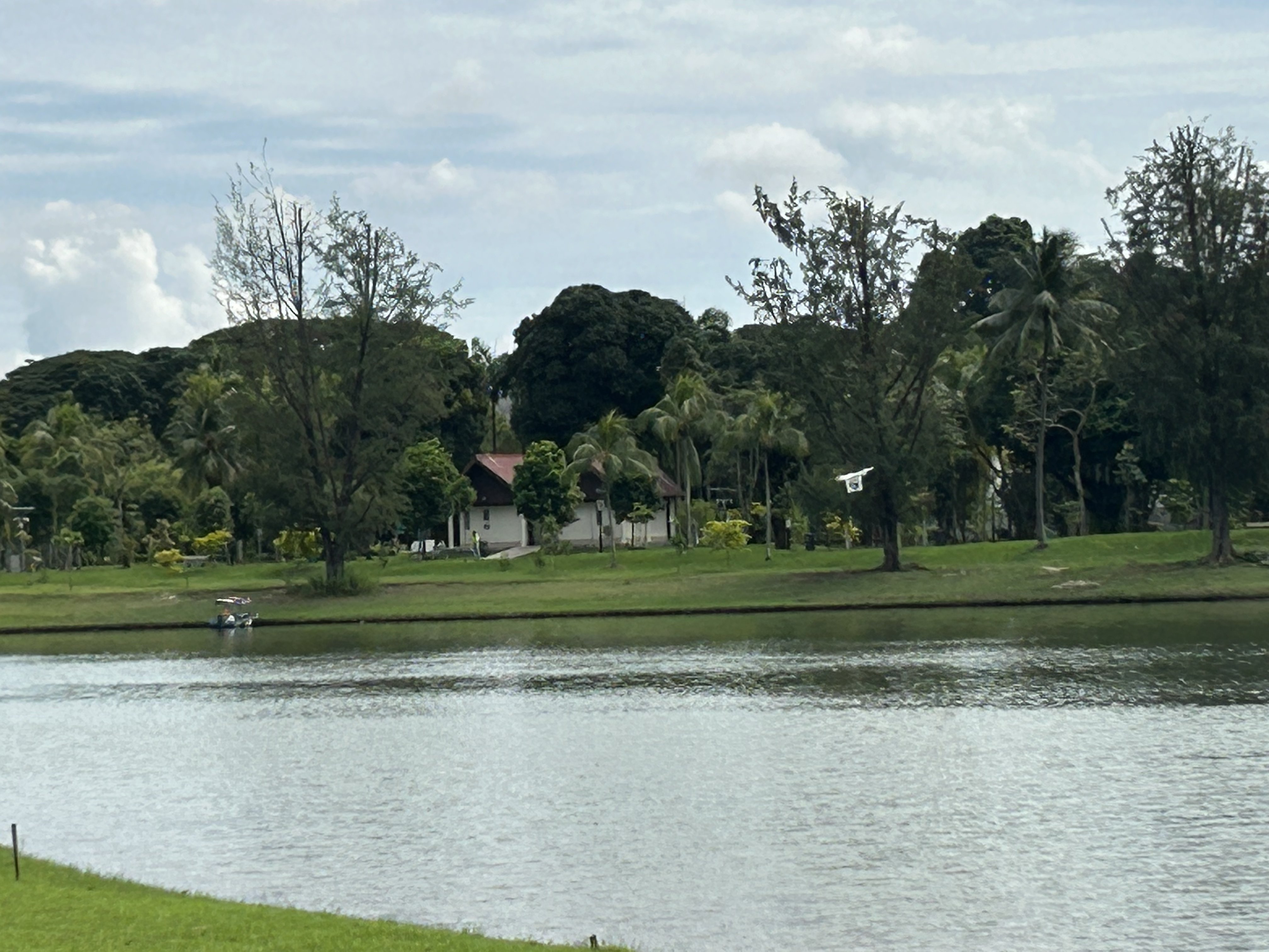drone_other: (833, 465, 874, 494)
